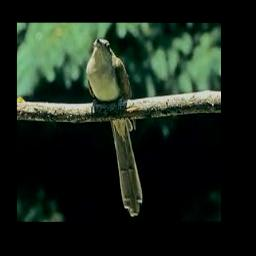Cuckoo: (85, 39, 143, 216)
